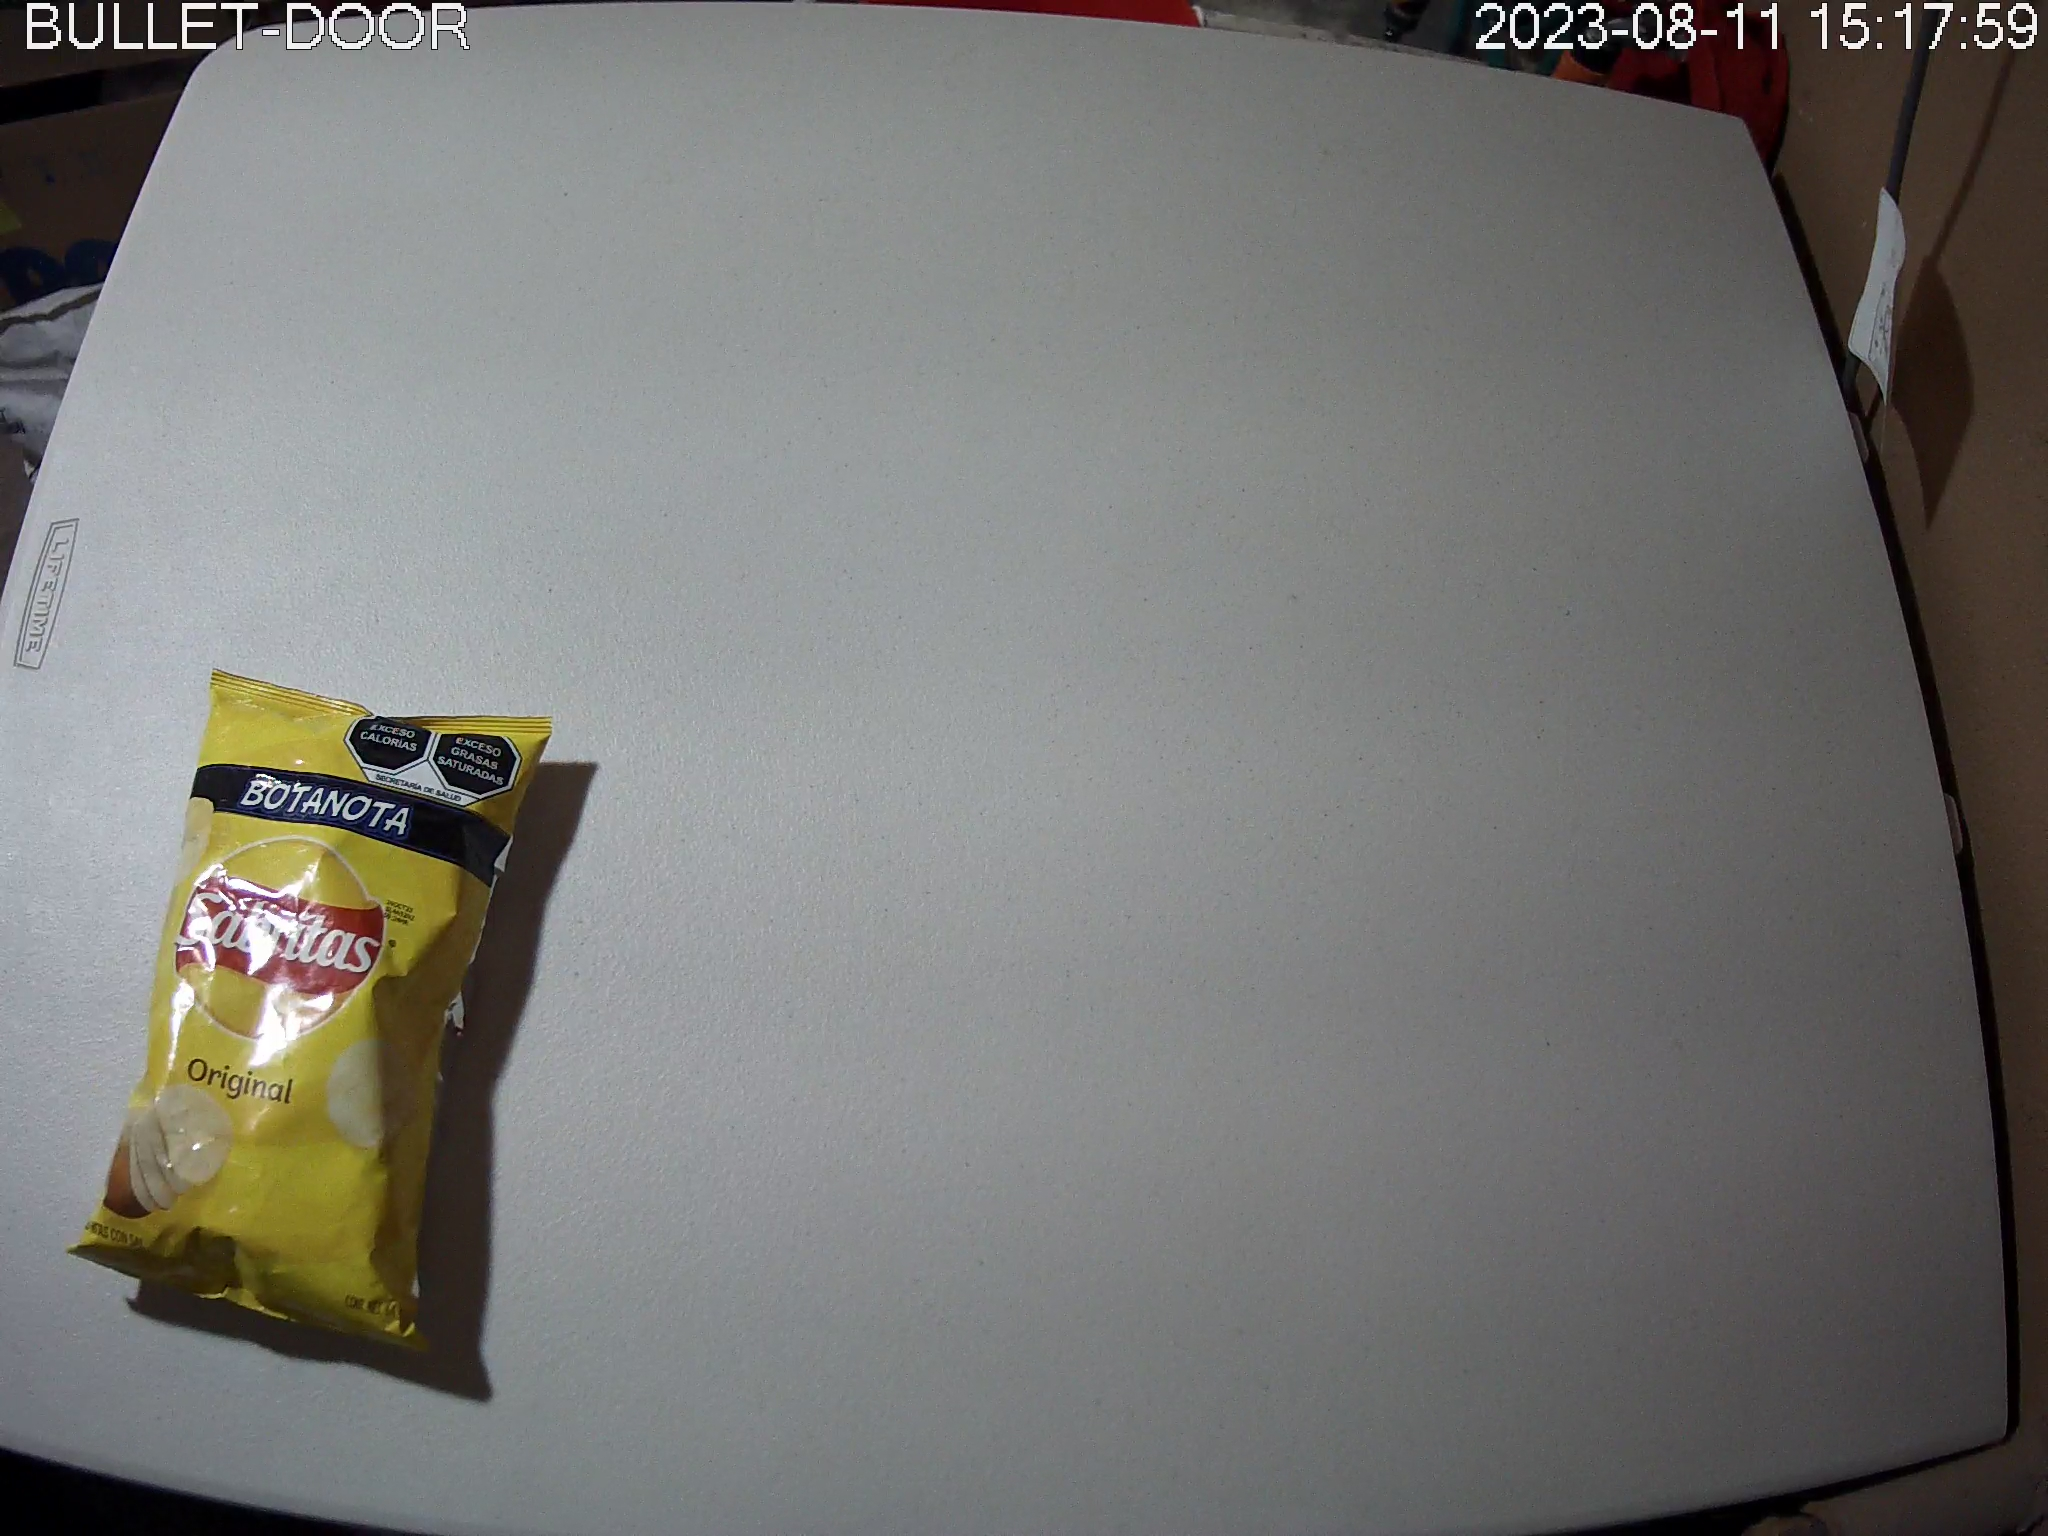Sabritas_64_F: (69, 665, 555, 1359)
